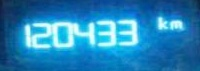0: (51, 19, 74, 48)
1: (17, 17, 33, 54)
2: (31, 19, 49, 49)
3: (116, 17, 138, 46), (95, 18, 114, 47)
4: (73, 20, 94, 48)
X: (169, 18, 184, 29), (156, 14, 166, 29)
